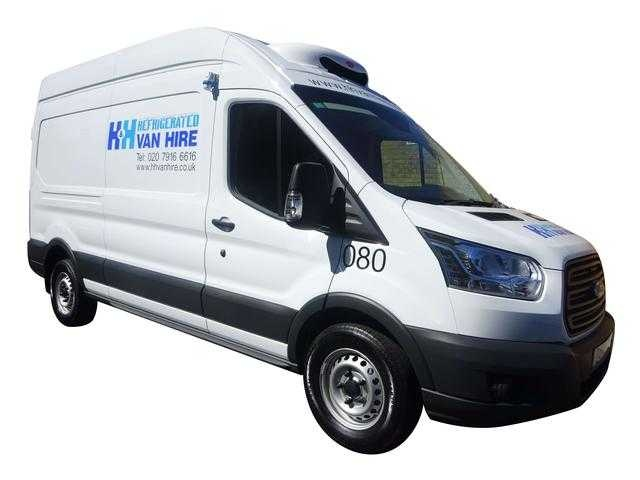van: (26, 26, 616, 456)
